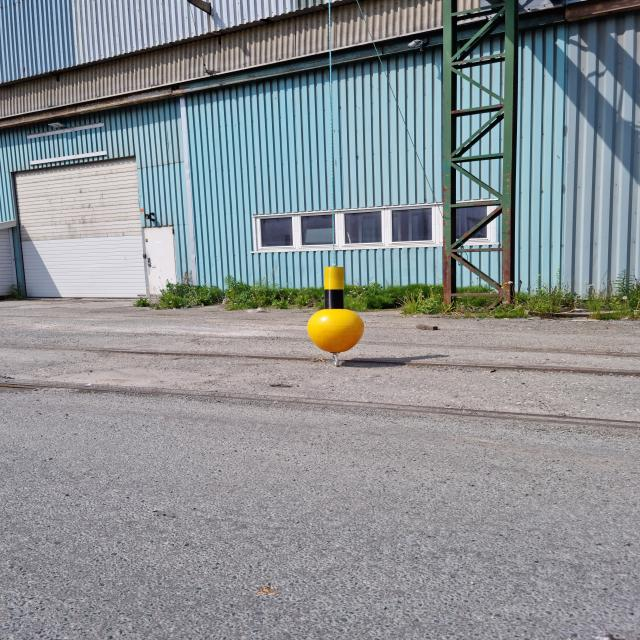west: (306, 267, 366, 352)
